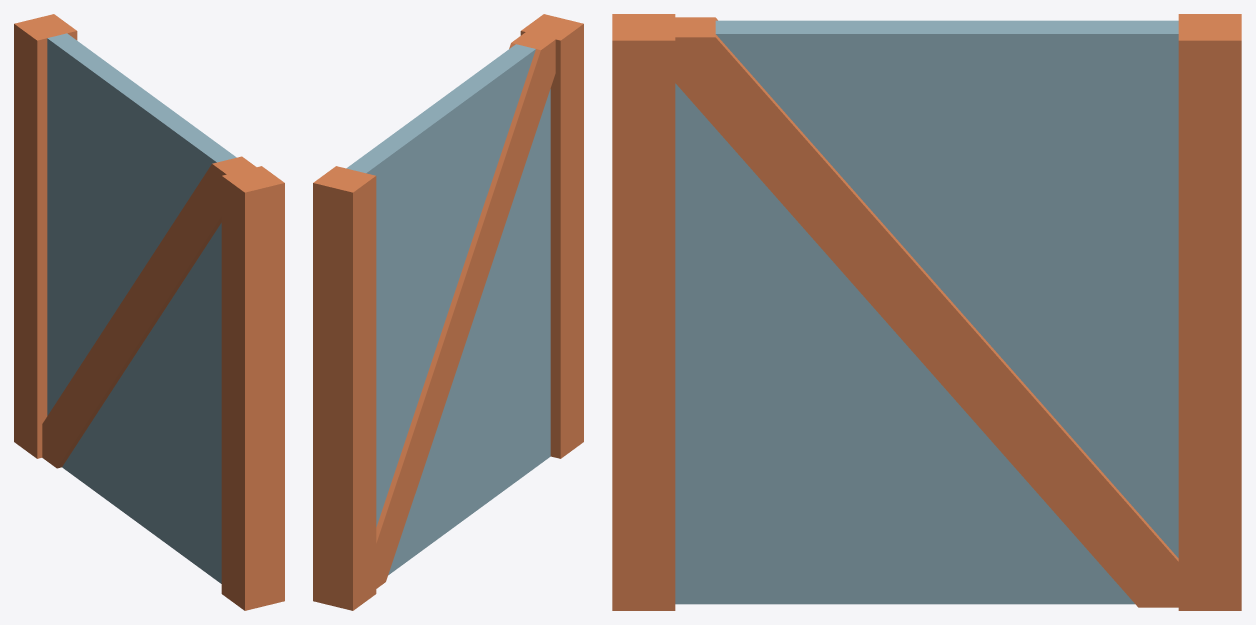
File: wallDetailDiagonal.fbx
3 views of the same model, side by side, from view 1: azimuth 30°, elevation 25°; view 2: azimuth 150°, elevation 25°; view 3: azimuth 270°, elevation 25° (orthographic). The views are drawn at different scales.
Parts seen in each view (by area): view 1: wallDetailDiagonal; view 2: wallDetailDiagonal; view 3: wallDetailDiagonal.
Boxes of the visible parts, box(x1,y1,x2,y2) form: wallDetailDiagonal: box(14, 14, 284, 610); wallDetailDiagonal: box(313, 14, 583, 610); wallDetailDiagonal: box(612, 14, 1241, 610).
Bounding box in the file's own units: 1 × 10 × 10.
